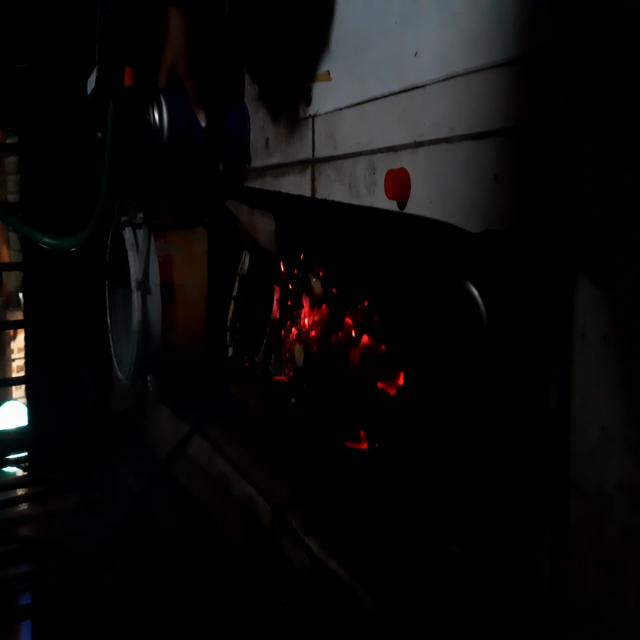Fire: (262, 228, 423, 476)
